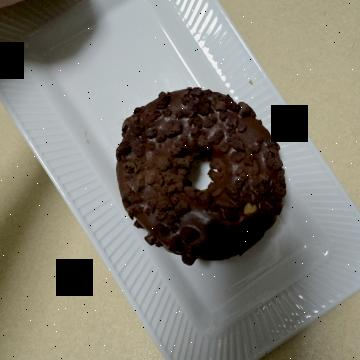doughnut: (77, 66, 272, 255)
